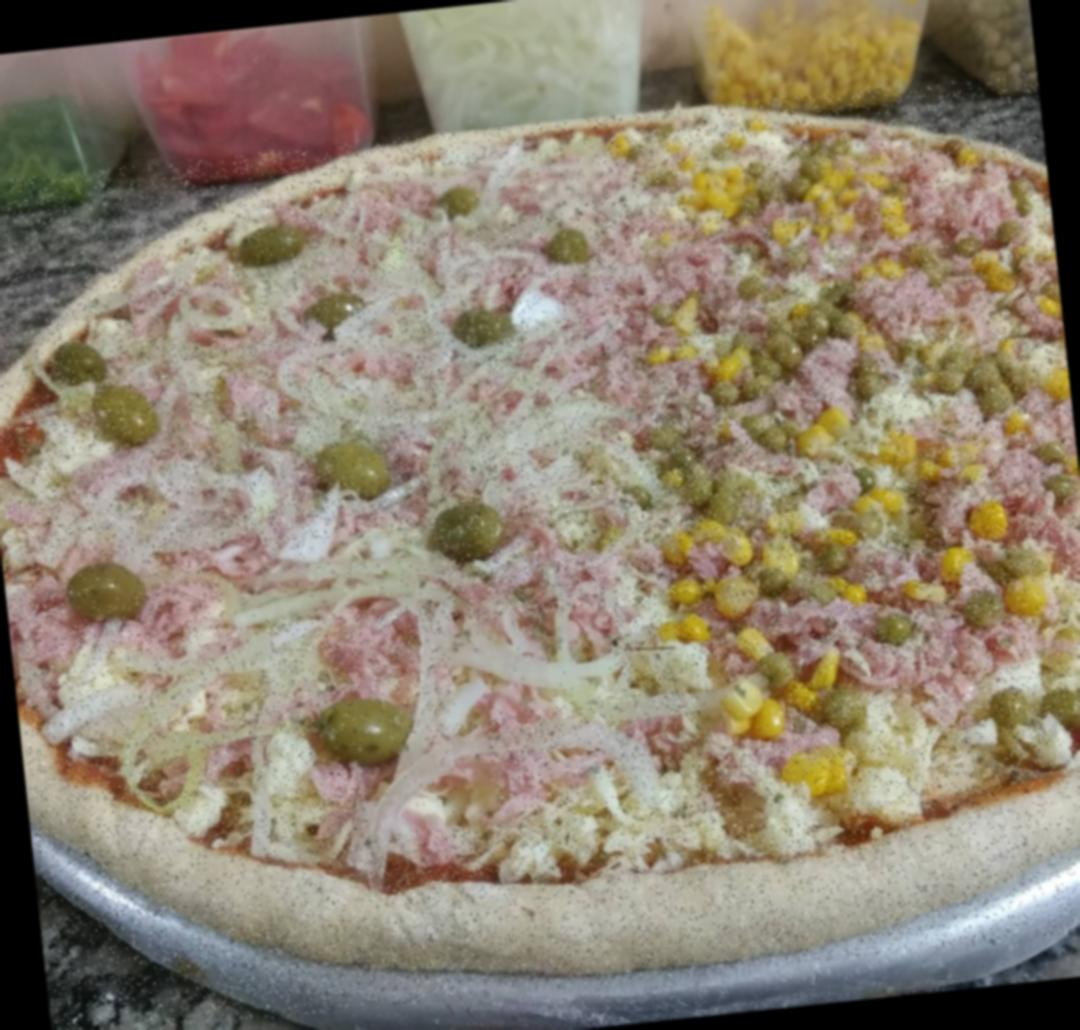Corn: (798, 160, 876, 250), (706, 674, 792, 753), (660, 592, 738, 656), (773, 735, 851, 799), (686, 337, 758, 396), (784, 404, 851, 464), (964, 242, 1022, 308), (958, 488, 1020, 546), (682, 163, 744, 219), (916, 538, 973, 596), (836, 478, 898, 529), (882, 426, 926, 474), (736, 622, 779, 669), (1003, 580, 1053, 618), (1040, 370, 1070, 400)
Olives: (432, 483, 522, 569), (52, 552, 148, 627), (406, 160, 502, 234), (326, 691, 412, 771), (314, 430, 400, 502), (31, 322, 113, 392), (89, 374, 162, 442), (234, 225, 316, 270), (451, 306, 509, 356), (540, 216, 592, 268), (300, 282, 355, 323)
Onion: (87, 634, 285, 778), (220, 529, 441, 623), (76, 459, 268, 562), (447, 609, 614, 718), (545, 707, 690, 826), (420, 360, 568, 471), (360, 726, 498, 836), (366, 224, 500, 316), (275, 339, 410, 418), (510, 138, 608, 214), (168, 292, 262, 348)
Pizza: (0, 71, 1080, 1030)
